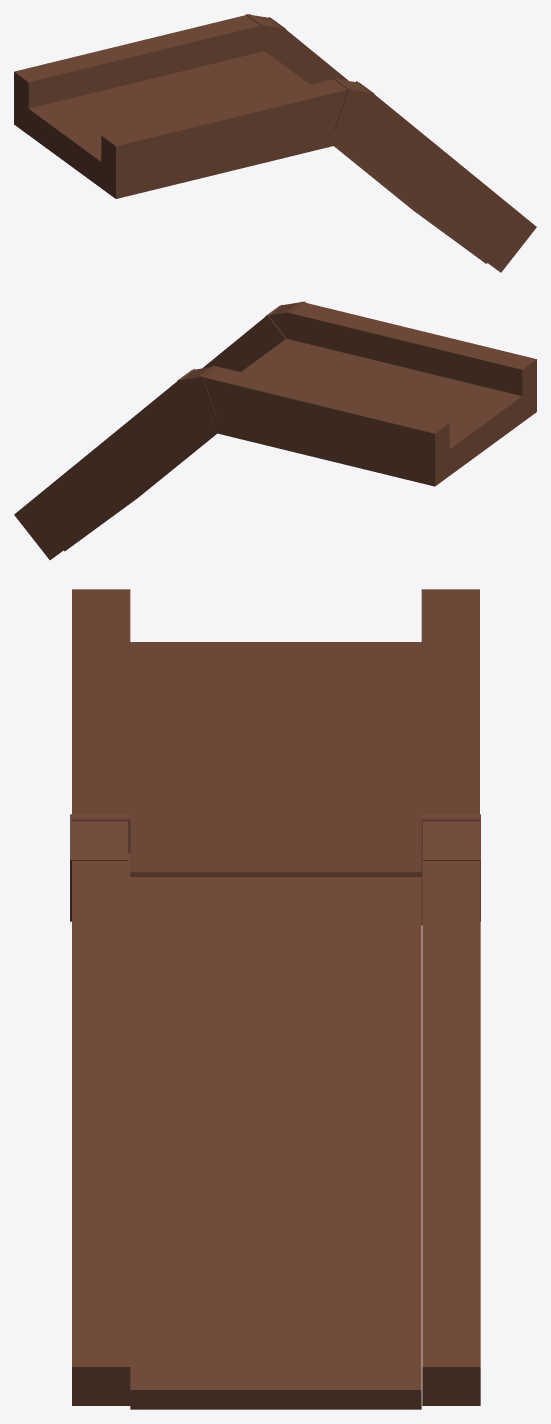
Rendered from Kudarimichi.fbx.
3 renders of one model, top to bottom at view 1: azimuth 30°, elevation 25°; view 2: azimuth 150°, elevation 25°; view 3: azimuth 270°, elevation 25°, orthographic. The views are drawn at different scales.
Visible parts, largest first — view 1: Cube.006, Cube.004, Cube.008, Cube.005, Cube.009, Cube.011, Cube.007, Cube.010; view 2: Cube.005, Cube.004, Cube.009, Cube.006, Cube.008, Cube.010, Cube.007, Cube.011; view 3: Cube.007, Cube.004, Cube.008, Cube.009, Cube.005, Cube.006, Cube.011, Cube.010.
Boxes of the visible parts, <box> form: Cube.006: <box>101,78,351,198</box>; Cube.004: <box>28,51,309,187</box>; Cube.008: <box>335,81,536,272</box>; Cube.005: <box>14,14,264,134</box>; Cube.009: <box>265,17,348,84</box>; Cube.011: <box>334,78,373,134</box>; Cube.007: <box>334,144,486,263</box>; Cube.010: <box>245,14,285,50</box>; Cube.005: <box>199,365,449,486</box>; Cube.004: <box>241,338,522,475</box>; Cube.009: <box>14,369,215,559</box>; Cube.006: <box>286,301,536,422</box>; Cube.008: <box>202,304,286,371</box>; Cube.010: <box>177,366,217,421</box>; Cube.007: <box>64,431,216,551</box>; Cube.011: <box>265,301,305,337</box>; Cube.007: <box>130,877,421,1409</box>; Cube.004: <box>130,642,421,876</box>; Cube.008: <box>72,853,130,1405</box>; Cube.009: <box>422,853,480,1405</box>; Cube.005: <box>421,589,479,924</box>; Cube.006: <box>72,589,130,853</box>; Cube.011: <box>70,814,128,921</box>; Cube.010: <box>422,814,480,921</box>.
Bounding box in the file's own units: 16.68 × 8.45 × 7.06.
